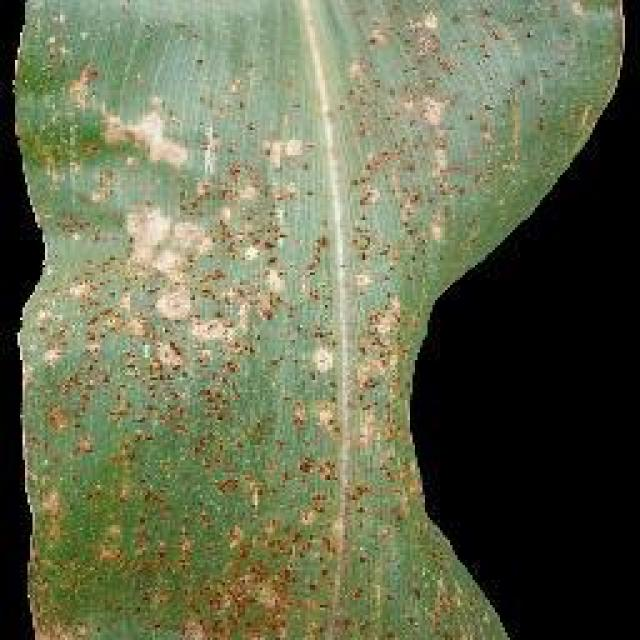Corn Common Rust: (65, 78, 448, 557)
